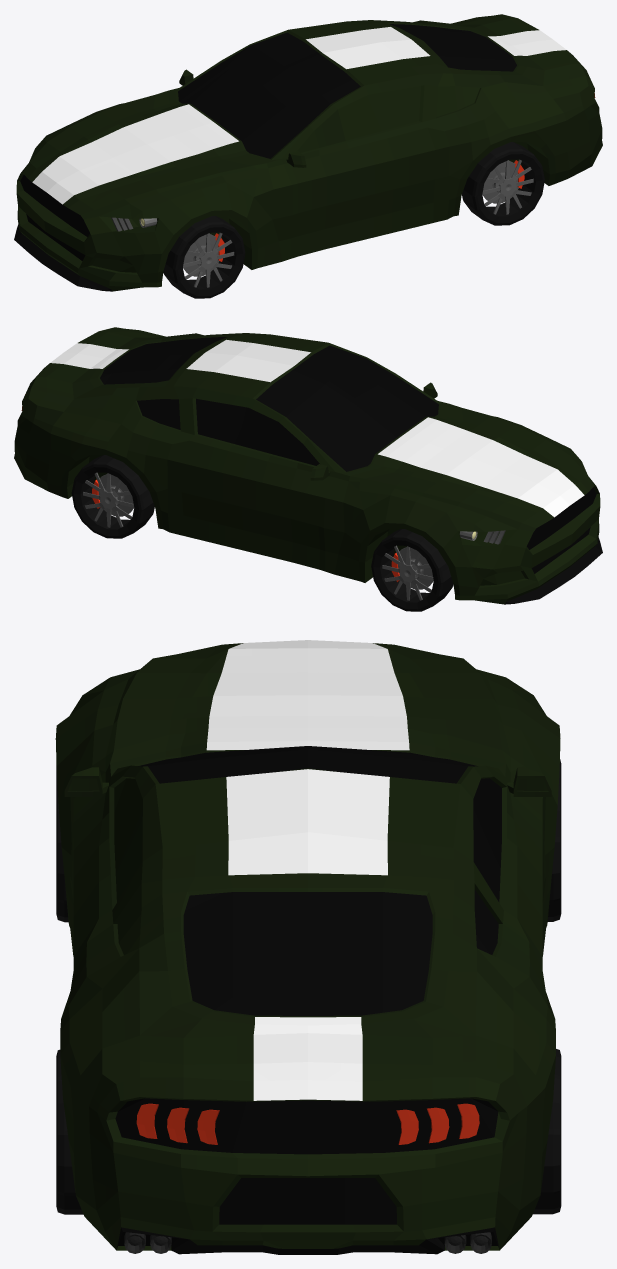
File: arcade-car-02.glb
3 renders of one model, top to bottom at view 1: azimuth 30°, elevation 25°; view 2: azimuth 150°, elevation 25°; view 3: azimuth 270°, elevation 25°, orthographic. The views are drawn at different scales.
Visible parts, largest first — view 1: arcade-car-02; view 2: arcade-car-02; view 3: arcade-car-02.
Part boxes in pixels (x1,y1,x2,y2): arcade-car-02: [14, 14, 602, 298]; arcade-car-02: [14, 327, 602, 611]; arcade-car-02: [55, 640, 561, 1254].
Bounding box in the file's own units: 4.17 × 1.19 × 1.72.
1 material, 1 textured.
